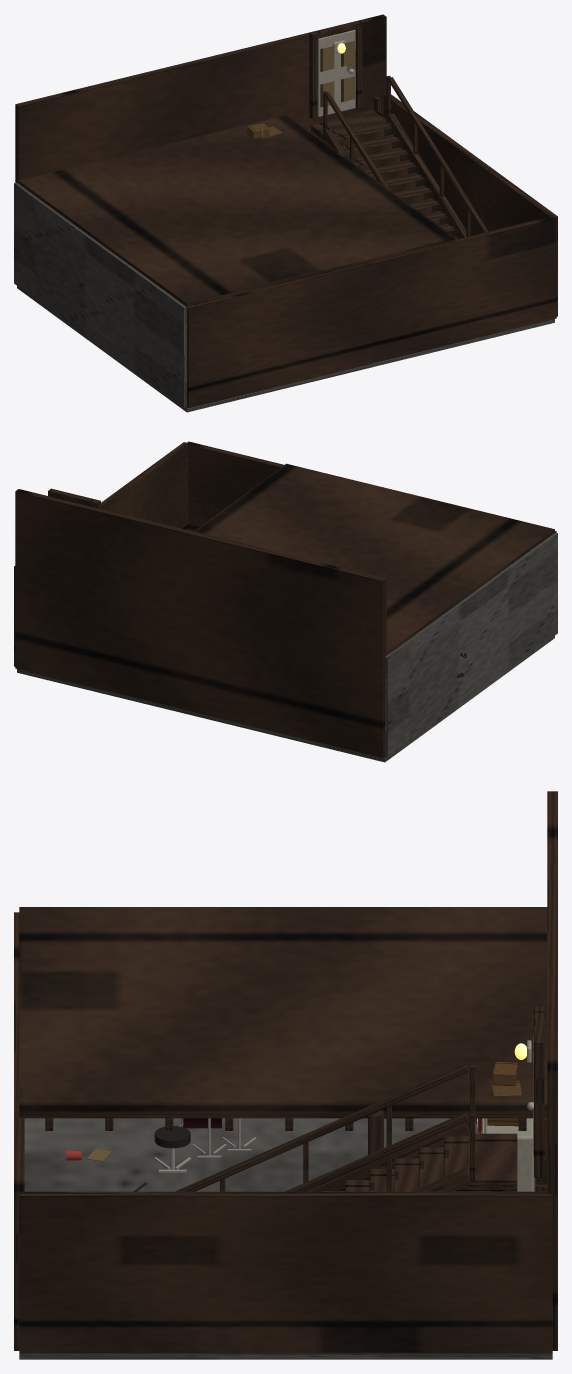
The model's file is lonely-street-basement-staged.glb.
3 renders of one model, top to bottom at view 1: azimuth 30°, elevation 25°; view 2: azimuth 150°, elevation 25°; view 3: azimuth 270°, elevation 25°, orthographic. The views are drawn at different scales.
Visible parts, largest first — view 1: SM_lonely_basement_shell_Wood_Charred, SM_Env_FrontWall, SM_lonely_basement_shell_Concrete_Weathered, SM_lonely_basement_staircase_Wood_DarkStained, SM_lonely_basement_stair_door_Wood_DarkStained, SM_Env_StairDoorSlab, SM_lonely_basement_staircase_Wood_Charred, SM_lonely_basement_stair_door_Paper_Aged; view 2: SM_lonely_basement_shell_Wood_Charred, SM_lonely_basement_shell_Concrete_Weathered, SM_Env_FrontWall, SM_lonely_basement_stair_door_Wood_DarkStained; view 3: SM_lonely_basement_shell_Wood_Charred, SM_lonely_basement_shell_Concrete_Weathered, SM_lonely_basement_staircase_Wood_DarkStained, SM_Env_FrontWall, SM_lonely_basement_staircase_Wood_Charred, SM_lonely_basement_shell_Wood_DarkStained, SM_lonely_basement_stair_door_Wood_DarkStained, SM_lonely_basement_fridge_Metal_DirtyEnamel, SM_lonely_basement_box_stack_Paper_Cardboard.
Boxes of the visible parts, bbox=[...] form: SM_lonely_basement_shell_Wood_Charred: bbox=[15, 14, 557, 316]; SM_Env_FrontWall: bbox=[187, 216, 556, 408]; SM_lonely_basement_shell_Concrete_Weathered: bbox=[14, 182, 554, 412]; SM_lonely_basement_staircase_Wood_DarkStained: bbox=[311, 75, 488, 239]; SM_lonely_basement_stair_door_Wood_DarkStained: bbox=[309, 20, 362, 119]; SM_Env_StairDoorSlab: bbox=[317, 30, 355, 116]; SM_lonely_basement_staircase_Wood_Charred: bbox=[323, 113, 466, 238]; SM_lonely_basement_stair_door_Paper_Aged: bbox=[320, 40, 354, 107]; SM_lonely_basement_shell_Wood_Charred: bbox=[14, 442, 554, 758]; SM_lonely_basement_shell_Concrete_Weathered: bbox=[17, 532, 557, 762]; SM_Env_FrontWall: bbox=[186, 441, 556, 532]; SM_lonely_basement_stair_door_Wood_DarkStained: bbox=[48, 488, 100, 508]; SM_lonely_basement_shell_Wood_Charred: bbox=[19, 791, 557, 1353]; SM_lonely_basement_shell_Concrete_Weathered: bbox=[19, 1118, 552, 1359]; SM_lonely_basement_staircase_Wood_DarkStained: bbox=[175, 1064, 517, 1191]; SM_Env_FrontWall: bbox=[14, 912, 24, 1350]; SM_lonely_basement_staircase_Wood_Charred: bbox=[308, 1121, 470, 1191]; SM_lonely_basement_shell_Wood_DarkStained: bbox=[45, 1110, 547, 1191]; SM_lonely_basement_stair_door_Wood_DarkStained: bbox=[534, 1006, 544, 1177]; SM_lonely_basement_fridge_Metal_DirtyEnamel: bbox=[482, 1118, 533, 1191]; SM_lonely_basement_box_stack_Paper_Cardboard: bbox=[487, 1062, 521, 1126].
Bounding box in the file's own units: 10.35 × 4.85 × 8.16.
Materials: 18 (7 with a texture image).
